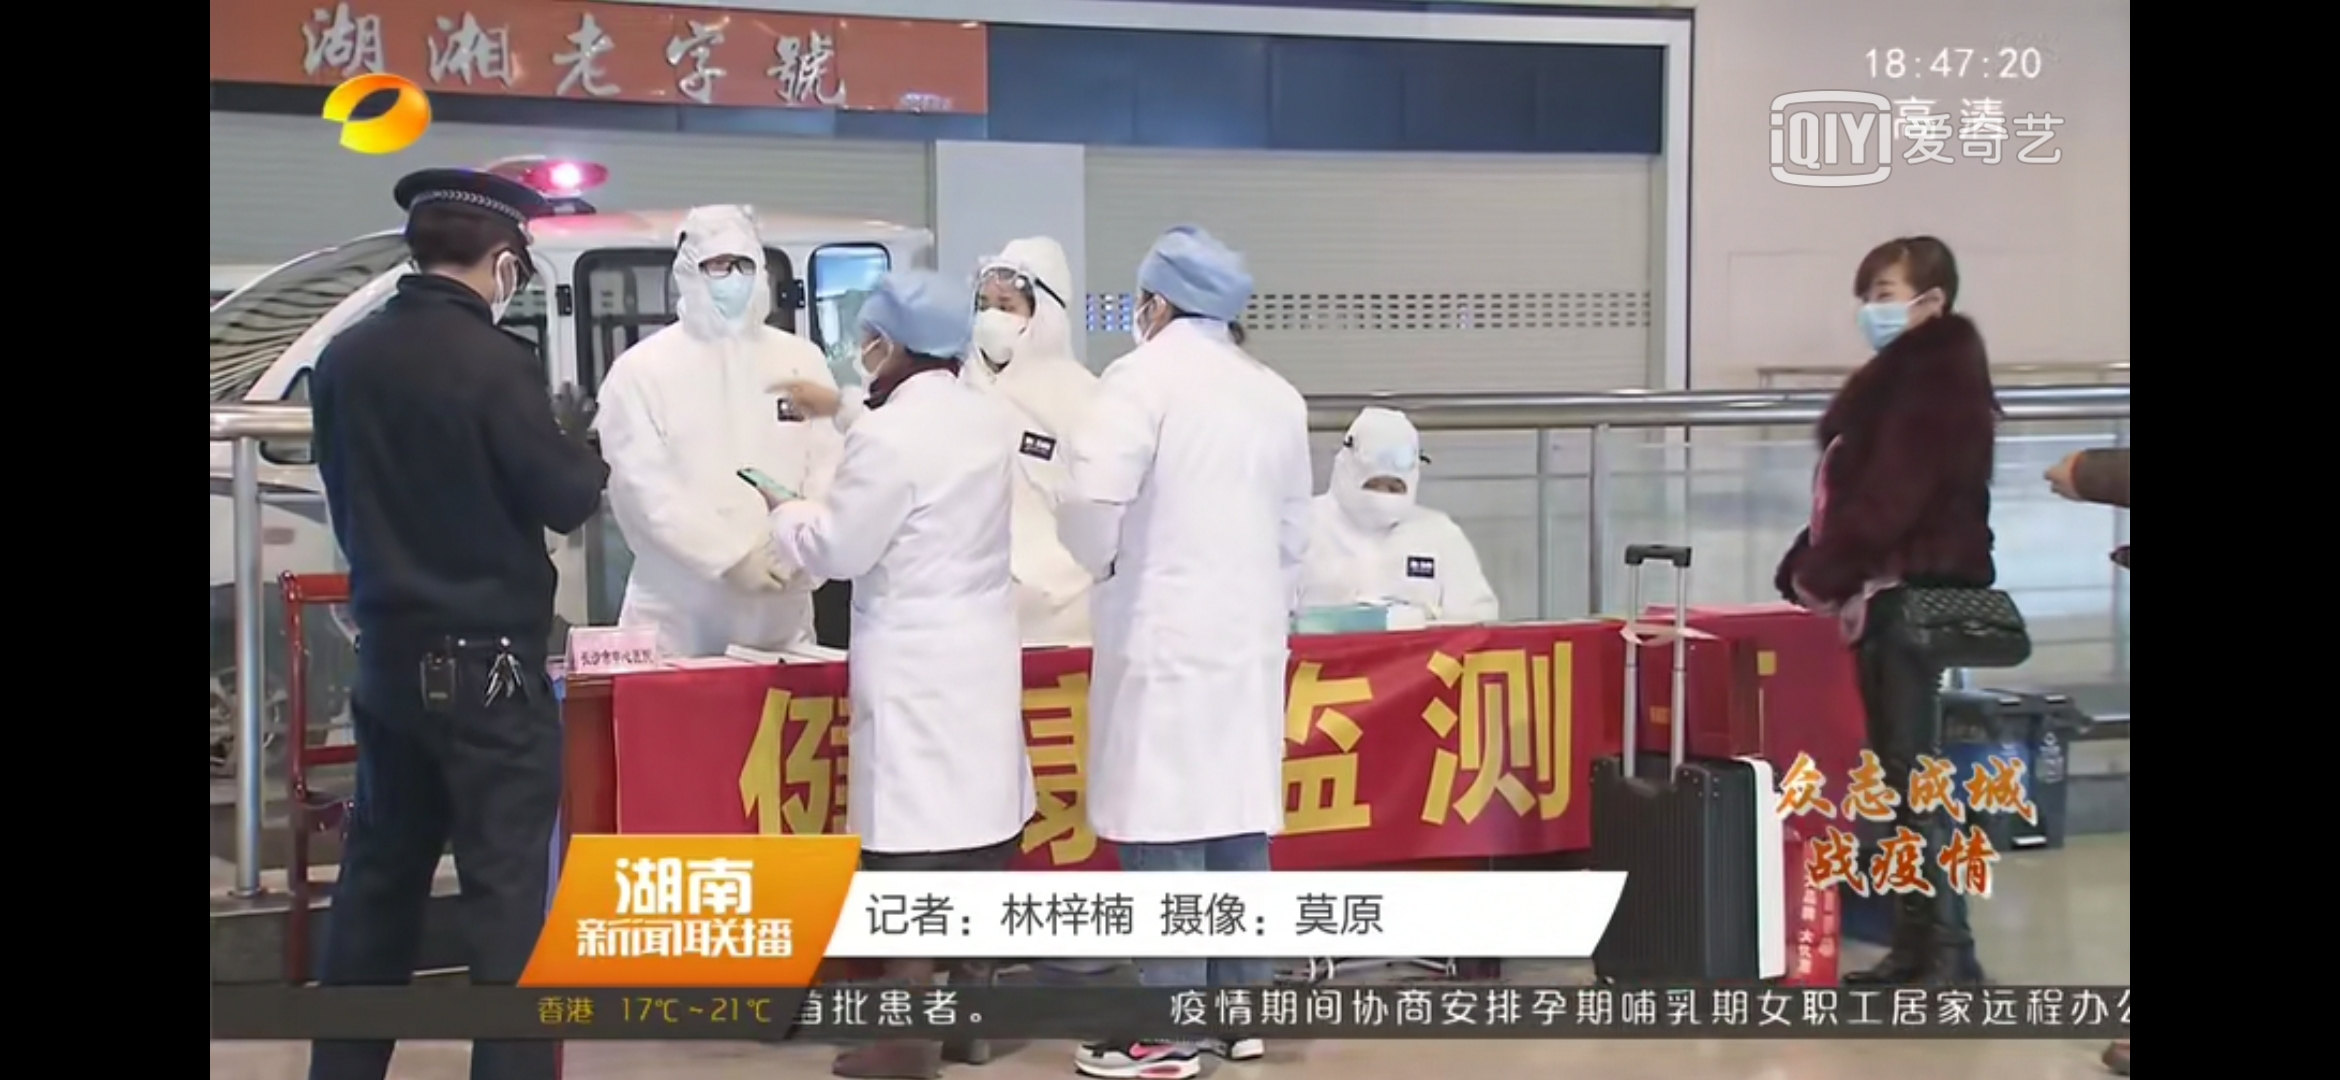correctlyWear: (1856, 263, 1945, 355), (475, 224, 531, 325), (1345, 461, 1419, 537), (976, 271, 1033, 367), (851, 307, 907, 397), (698, 246, 760, 318), (1130, 277, 1173, 346)
